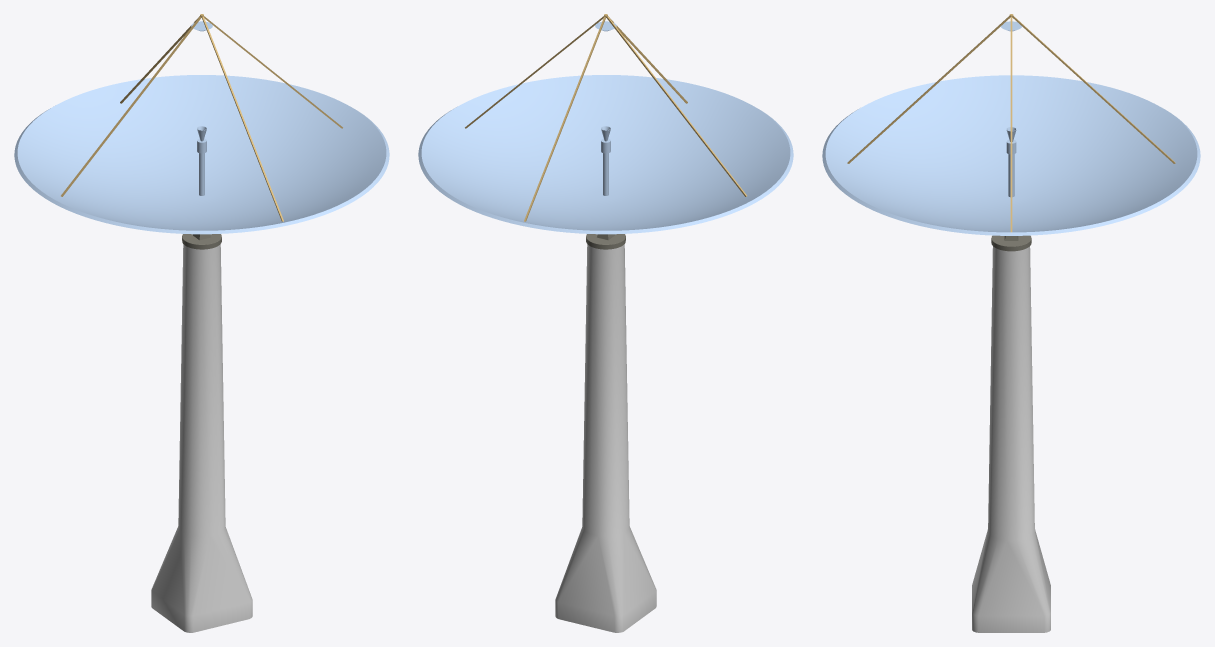
Rendered from Radio_Dish_Deep_Space.glb.
3 renders of one model, left to right at view 1: azimuth 30°, elevation 25°; view 2: azimuth 150°, elevation 25°; view 3: azimuth 270°, elevation 25°, orthographic.
Visible parts, largest first — view 1: RadioDish-DeepSpace_LOD0, RadioDish-DeepSpace-Tower_LOD0, RadioDish-DeepSpace-Base_LOD0; view 2: RadioDish-DeepSpace_LOD0, RadioDish-DeepSpace-Tower_LOD0, RadioDish-DeepSpace-Base_LOD0; view 3: RadioDish-DeepSpace_LOD0, RadioDish-DeepSpace-Tower_LOD0, RadioDish-DeepSpace-Base_LOD0.
Boxes of the visible parts, <box> form: RadioDish-DeepSpace_LOD0: <box>14,14,389,234</box>; RadioDish-DeepSpace-Tower_LOD0: <box>151,244,252,632</box>; RadioDish-DeepSpace-Base_LOD0: <box>182,234,221,249</box>; RadioDish-DeepSpace_LOD0: <box>418,14,793,234</box>; RadioDish-DeepSpace-Tower_LOD0: <box>555,244,656,632</box>; RadioDish-DeepSpace-Base_LOD0: <box>586,234,625,249</box>; RadioDish-DeepSpace_LOD0: <box>822,14,1200,235</box>; RadioDish-DeepSpace-Tower_LOD0: <box>972,246,1050,632</box>; RadioDish-DeepSpace-Base_LOD0: <box>991,235,1031,251</box>.
Size of what is drawn, in the model's own units: 47.5 by 83.35 by 47.5.
